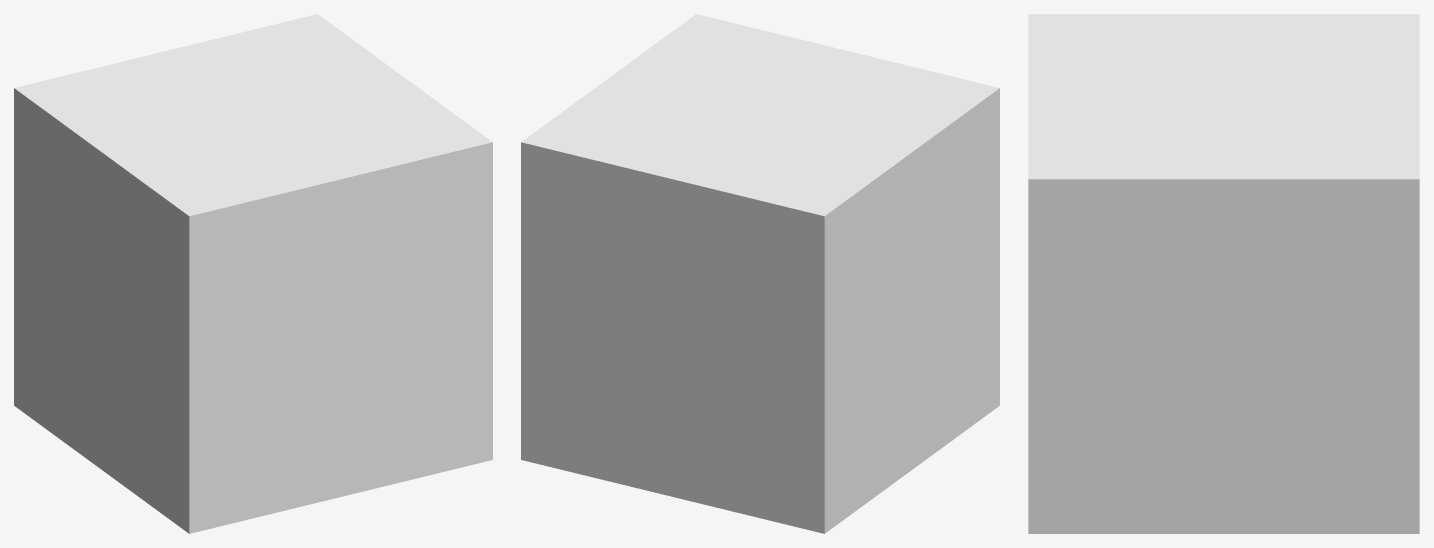
The model's file is CGameTestScene_TrainStation.glb.
3 renders of one model, left to right at view 1: azimuth 30°, elevation 25°; view 2: azimuth 150°, elevation 25°; view 3: azimuth 270°, elevation 25°, orthographic. The views are drawn at different scales.
Visible parts, largest first — view 1: Cube.004; view 2: Cube.004; view 3: Cube.004.
Part boxes in pixels (left/top/right/bottom): Cube.004: left=14, top=14, right=492, bottom=533; Cube.004: left=521, top=14, right=999, bottom=533; Cube.004: left=1028, top=14, right=1419, bottom=533.
Bounding box in the file's own units: 238 × 238 × 238.
1 material, 1 textured.
